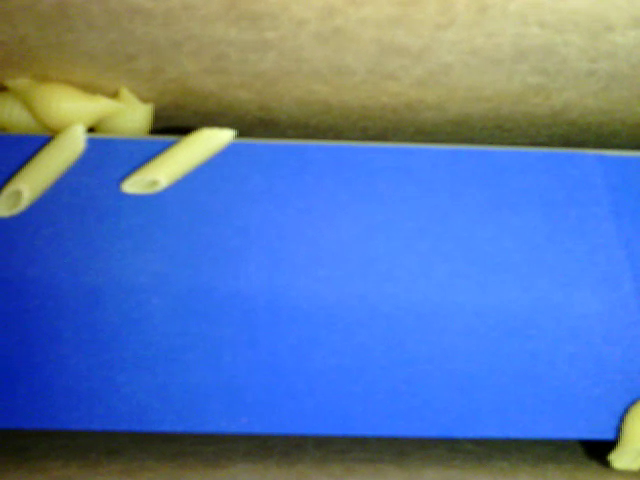penne: (1, 122, 87, 220), (118, 126, 236, 196)
shell: (2, 79, 124, 134), (93, 85, 152, 135), (605, 395, 639, 471), (1, 91, 50, 135)
